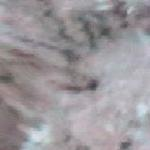alive: (6, 4, 146, 148)
